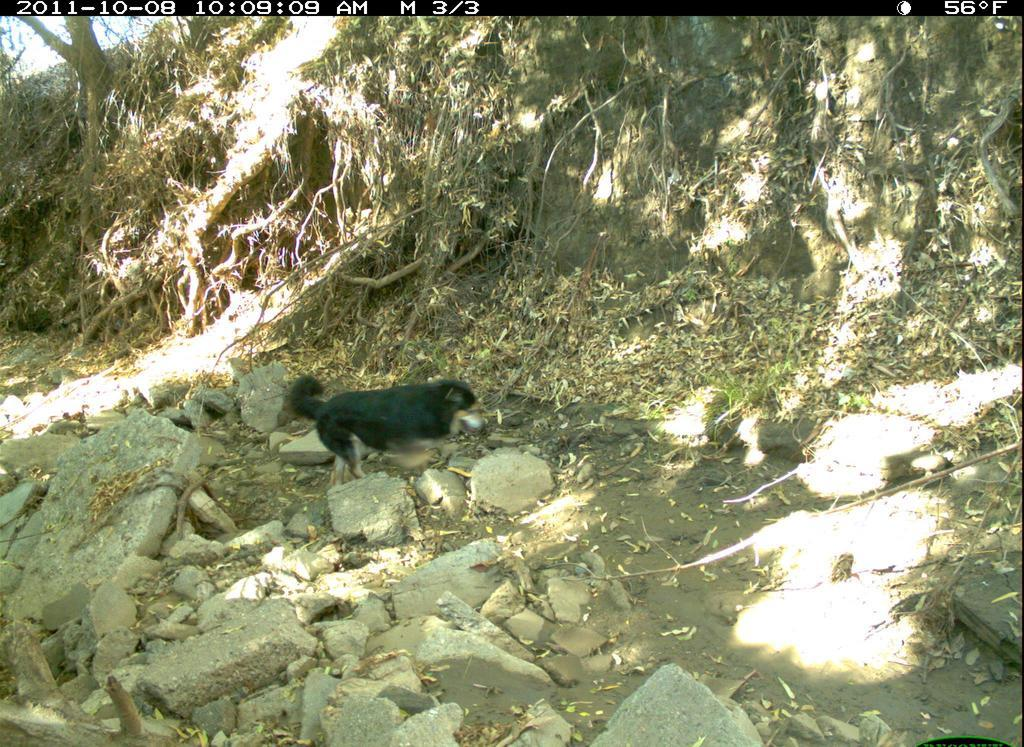dog: (281, 367, 498, 492)
